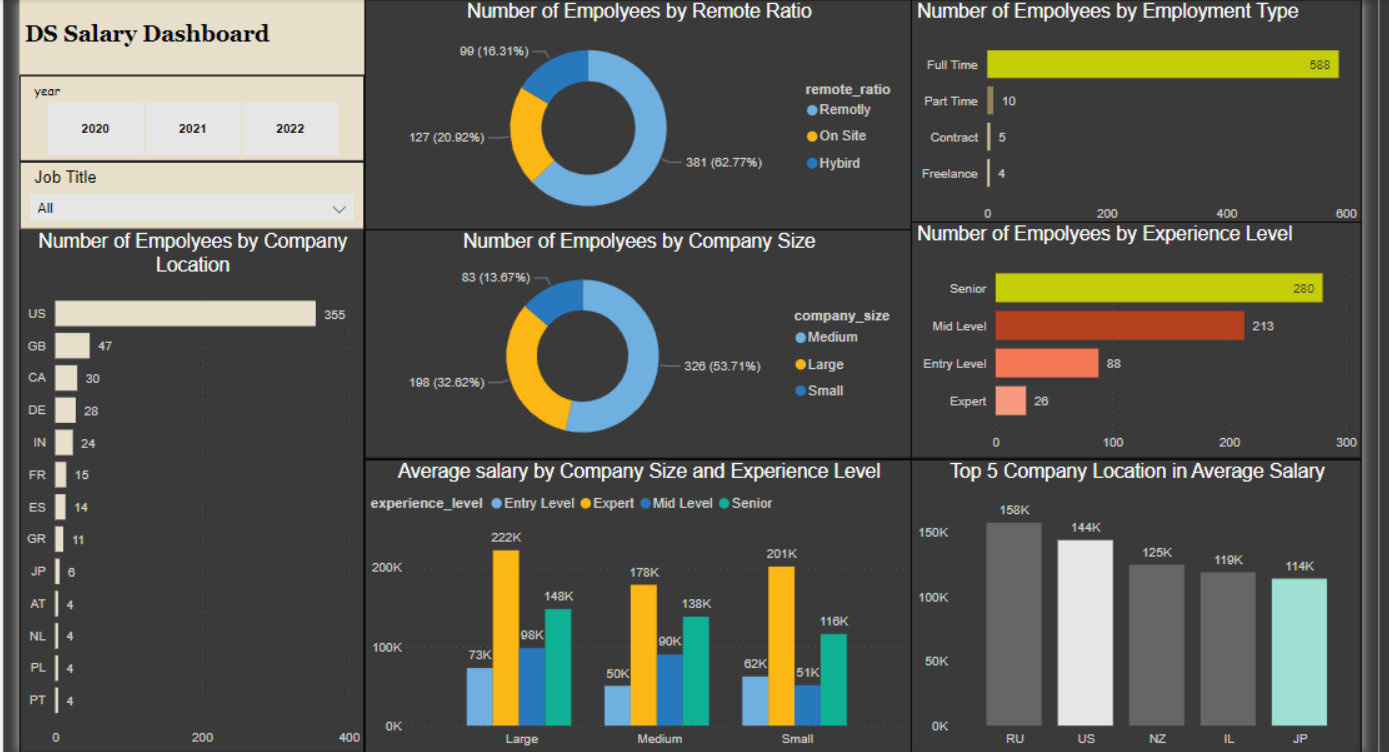

This screenshot's page, from the dashboard's own definition file:
{"tool":"powerbi","page":{"name":"Page 2","canvas":[1280,720],"ordinal":0},"visuals":[{"type":"barChart","title":"Number of Empolyees by Company Location","fields":{"Y":["CountNonNull(ds_salaries.number of empolyees)"],"Category":["ds_salaries.company_location"]},"box":[0,219.9,328.6,500.1],"z":0},{"type":"textbox","box":[0,0,328.6,72.5],"z":1000},{"type":"slicer","fields":{"Values":["ds_salaries.work_year"]},"box":[0,72.5,328.6,82.1],"z":2000},{"type":"slicer","fields":{"Values":["ds_salaries.job_title"]},"box":[0,154.6,328.6,65.2],"z":3000},{"type":"donutChart","title":"Number of Empolyees by Remote Ratio","fields":{"Category":["ds_salaries.remote_ratio"],"Y":["CountNonNull(ds_salaries.number of empolyees)"]},"box":[328.6,0,521.9,223.5],"z":4000},{"type":"donutChart","title":"Number of Empolyees by Company Size","fields":{"Category":["ds_salaries.company_size"],"Y":["CountNonNull(ds_salaries.number of empolyees)"]},"box":[328.6,219.9,521.9,218.7],"z":5000},{"type":"barChart","title":"Number of Empolyees by Employment Type","fields":{"Category":["ds_salaries.employment_type"],"Y":["CountNonNull(ds_salaries.number of empolyees)"]},"box":[850.5,0,430.1,219.9],"z":6000},{"type":"barChart","title":" Number of Empolyees by Experience Level","fields":{"Category":["ds_salaries.experience_level"],"Y":["CountNonNull(ds_salaries.number of empolyees)"]},"box":[850.5,212.6,430.1,225.9],"z":7000},{"type":"clusteredColumnChart","title":"Average salary by Company Size and Experience Level","fields":{"Category":["ds_salaries.company_size"],"Series":["ds_salaries.experience_level"],"Y":["Avg(ds_salaries.salary_in_usd)"]},"box":[328.6,438.5,521.9,281.5],"z":8000},{"type":"clusteredColumnChart","title":"Top 5 Company Location in Average Salary","fields":{"Category":["ds_salaries.company_location"],"Y":["Avg(ds_salaries.salary_in_usd)"]},"box":[850.5,438.5,430.1,281.5],"z":9000}]}

Visuals, with their boxes in screenshot pixels (x1, y1, x2, y2):
"Number of Empolyees by Company Location" barChart: pyautogui.locateOnScreen(11, 231, 362, 751)
textbox: pyautogui.locateOnScreen(11, 0, 362, 74)
slicer - ds_salaries.work_year: pyautogui.locateOnScreen(11, 74, 362, 162)
slicer - ds_salaries.job_title: pyautogui.locateOnScreen(11, 162, 362, 231)
"Number of Empolyees by Remote Ratio" donutChart: pyautogui.locateOnScreen(362, 0, 920, 235)
"Number of Empolyees by Company Size" donutChart: pyautogui.locateOnScreen(362, 231, 920, 465)
"Number of Empolyees by Employment Type" barChart: pyautogui.locateOnScreen(920, 0, 1379, 231)
" Number of Empolyees by Experience Level" barChart: pyautogui.locateOnScreen(920, 224, 1379, 465)
"Average salary by Company Size and Experience Level" clusteredColumnChart: pyautogui.locateOnScreen(362, 465, 920, 751)
"Top 5 Company Location in Average Salary" clusteredColumnChart: pyautogui.locateOnScreen(920, 465, 1379, 751)
